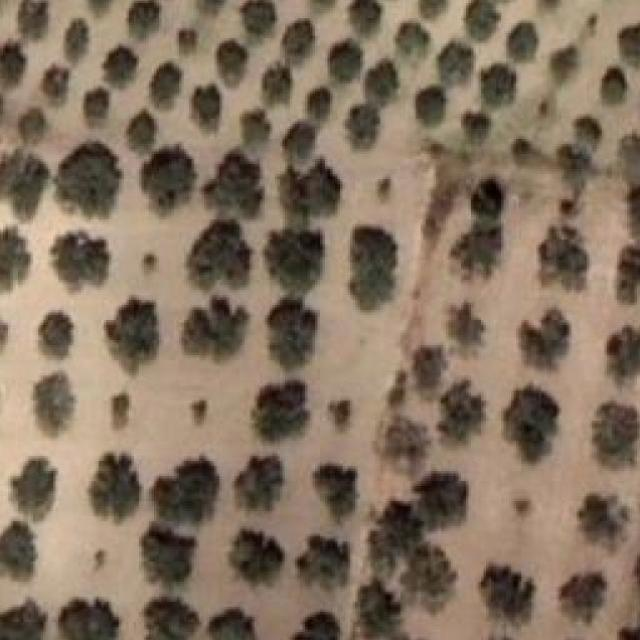Tree: (148, 454, 230, 522), (182, 214, 248, 290), (58, 141, 121, 213), (476, 554, 531, 633), (350, 224, 400, 309), (400, 544, 458, 617), (134, 519, 198, 583), (81, 456, 140, 525), (263, 227, 323, 294), (501, 391, 560, 459), (365, 501, 415, 579), (249, 375, 309, 439), (554, 564, 614, 628), (56, 234, 122, 292), (184, 300, 243, 364), (577, 491, 636, 555), (280, 166, 344, 225), (204, 149, 262, 214), (348, 579, 409, 640), (584, 403, 640, 469), (436, 378, 489, 446), (109, 300, 161, 367), (410, 474, 466, 535), (263, 300, 313, 368), (229, 526, 281, 591), (13, 456, 63, 520), (451, 222, 508, 278), (300, 526, 352, 587), (310, 461, 361, 523), (234, 459, 287, 518), (511, 308, 571, 360), (531, 227, 590, 279), (0, 145, 42, 215), (33, 378, 79, 441), (596, 327, 640, 391), (380, 419, 432, 469), (147, 147, 194, 202), (443, 300, 488, 357), (0, 591, 48, 640), (145, 593, 194, 640), (61, 596, 113, 640), (257, 62, 299, 115), (463, 174, 510, 220), (506, 21, 549, 71), (428, 46, 475, 90), (290, 605, 349, 640), (214, 33, 257, 81), (405, 343, 446, 392), (81, 83, 118, 137), (343, 99, 385, 146), (0, 526, 35, 582), (0, 226, 31, 289), (151, 62, 197, 104), (188, 83, 225, 135), (325, 33, 360, 87), (38, 310, 76, 359), (209, 604, 260, 640), (104, 48, 142, 96), (38, 58, 76, 105), (283, 127, 324, 170), (479, 67, 520, 110), (283, 16, 318, 65), (544, 48, 582, 92), (13, 0, 55, 39), (364, 58, 399, 104), (0, 38, 30, 91), (612, 242, 640, 298), (574, 112, 612, 153), (16, 104, 54, 143), (600, 64, 639, 102), (300, 88, 340, 125), (560, 149, 590, 198), (412, 76, 446, 119), (466, 0, 503, 39), (98, 390, 134, 428), (240, 107, 274, 146), (124, 1, 161, 36), (619, 21, 640, 82), (462, 107, 494, 147), (127, 109, 155, 154), (350, 0, 386, 35), (396, 23, 432, 58), (240, 0, 278, 32), (64, 16, 95, 55), (328, 398, 358, 438), (171, 23, 204, 54), (188, 396, 218, 430), (508, 132, 530, 169), (137, 250, 161, 274), (420, 0, 450, 19), (88, 0, 106, 19)
